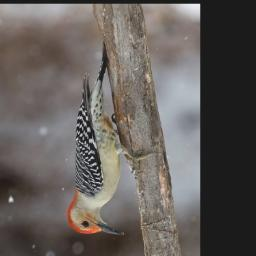Woodpecker: (67, 44, 157, 236)
